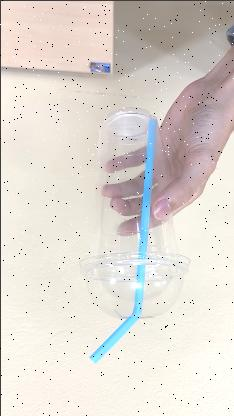Others: (77, 107, 191, 336)
